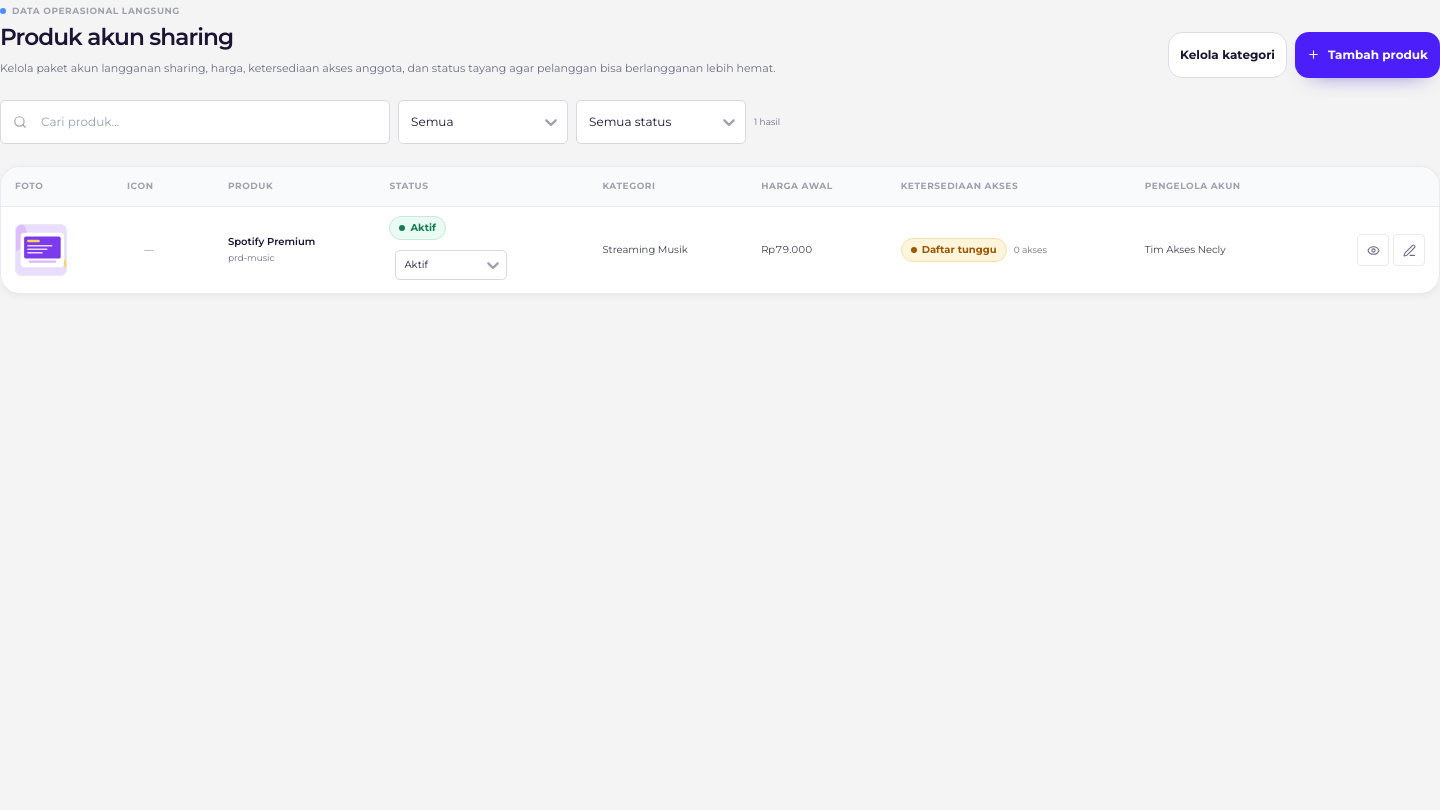
Test: produk admin (W18) › mewajibkan kategori dipilih untuk produk baru alih-alih memilih kategori pertama diam-diam
expect the text "Spotify Premium" is shown: met, box [228,235,315,248]
Click the button "Tambah produk" at (1368, 55), box [1295,32,1439,78]
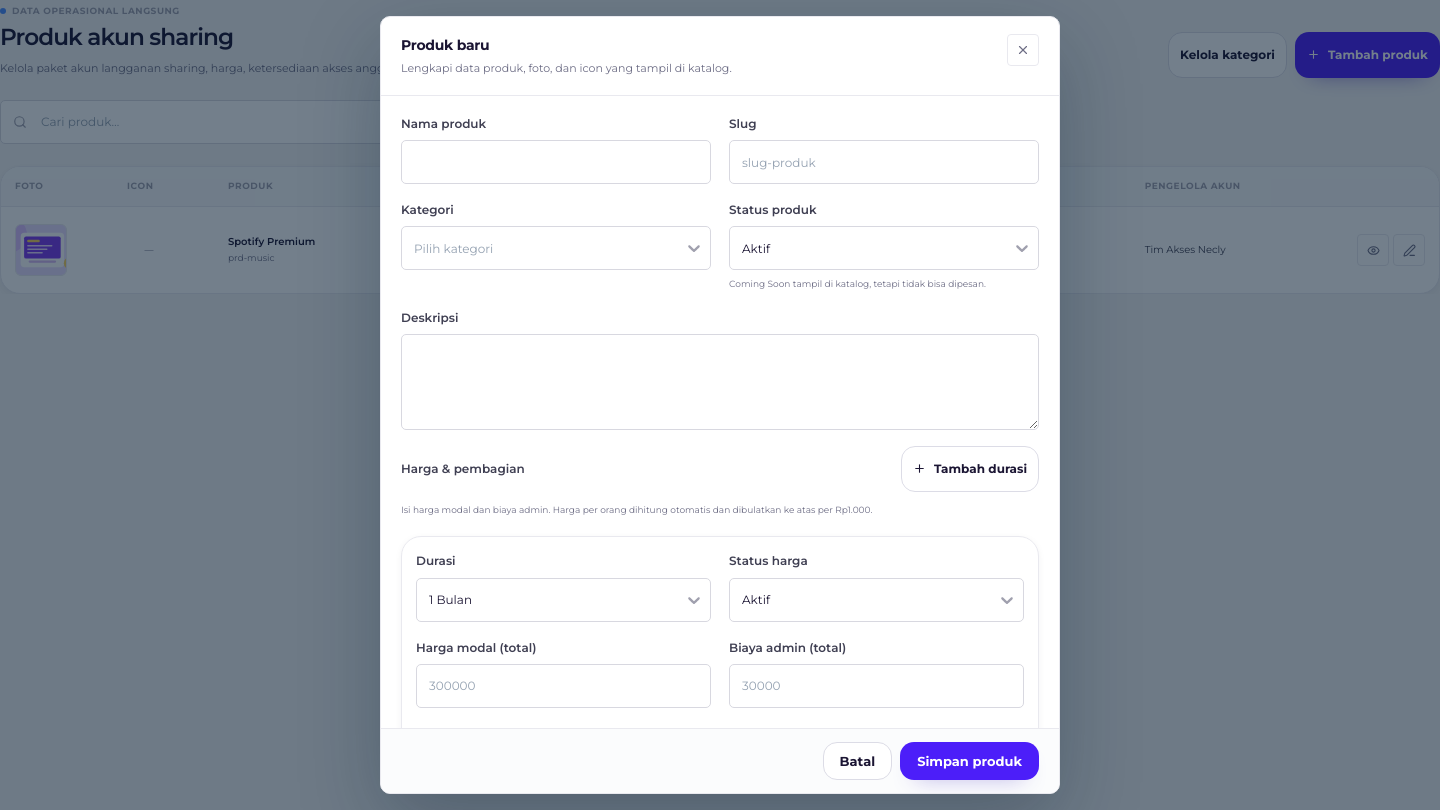
Type "Produk Baru" into the field labelled "Nama produk" at (556, 162), box [401,140,711,184]
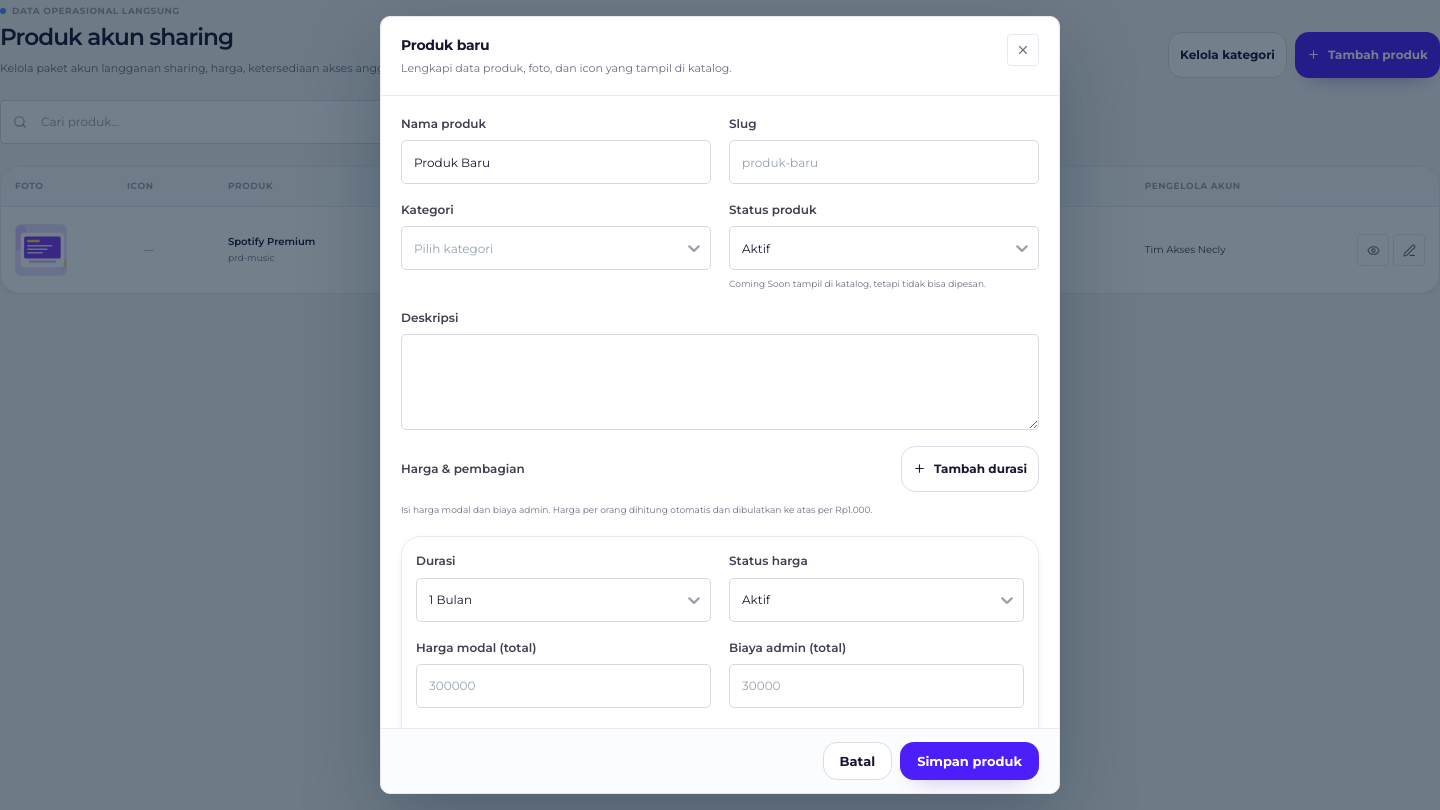
Click the button "Simpan produk" at (970, 761), box [900,742,1039,780]
(page scrolled)
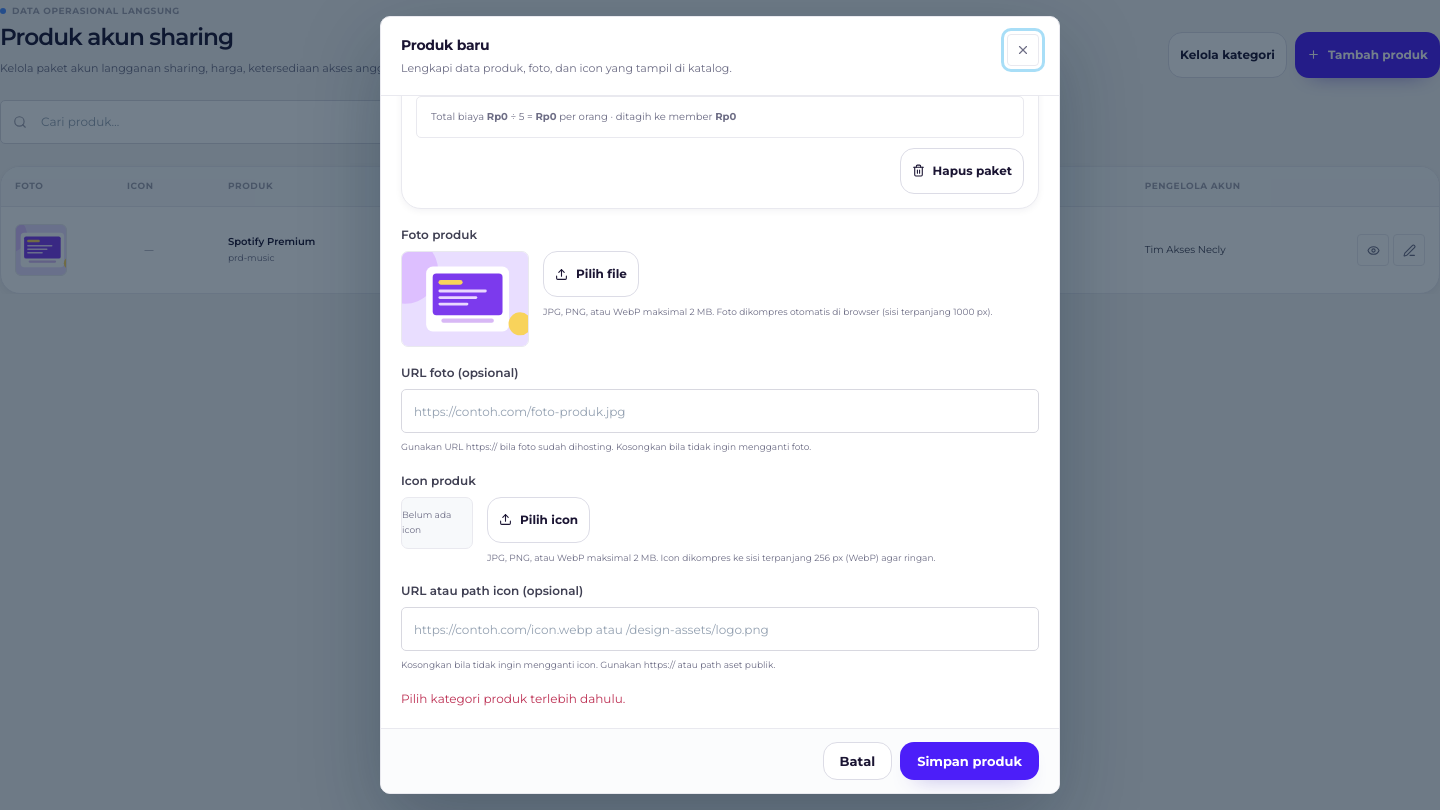
expect the text "Pilih kategori produk terlebih dahulu." is shown: met, box [401,691,625,706]
